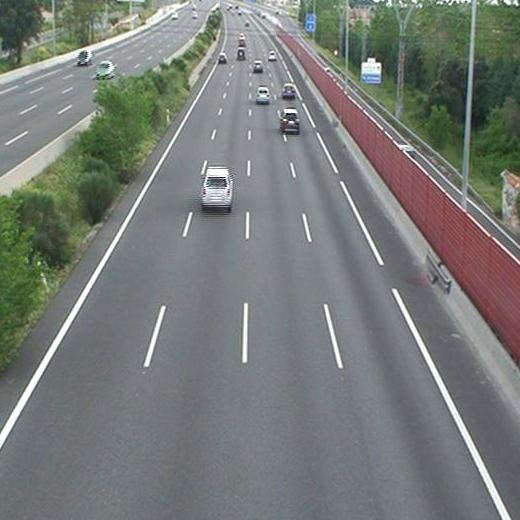car: (202, 166, 232, 206), (282, 109, 300, 131), (255, 87, 271, 102), (281, 84, 295, 96), (253, 61, 264, 71), (237, 48, 246, 58), (218, 53, 227, 63), (268, 51, 276, 60)
